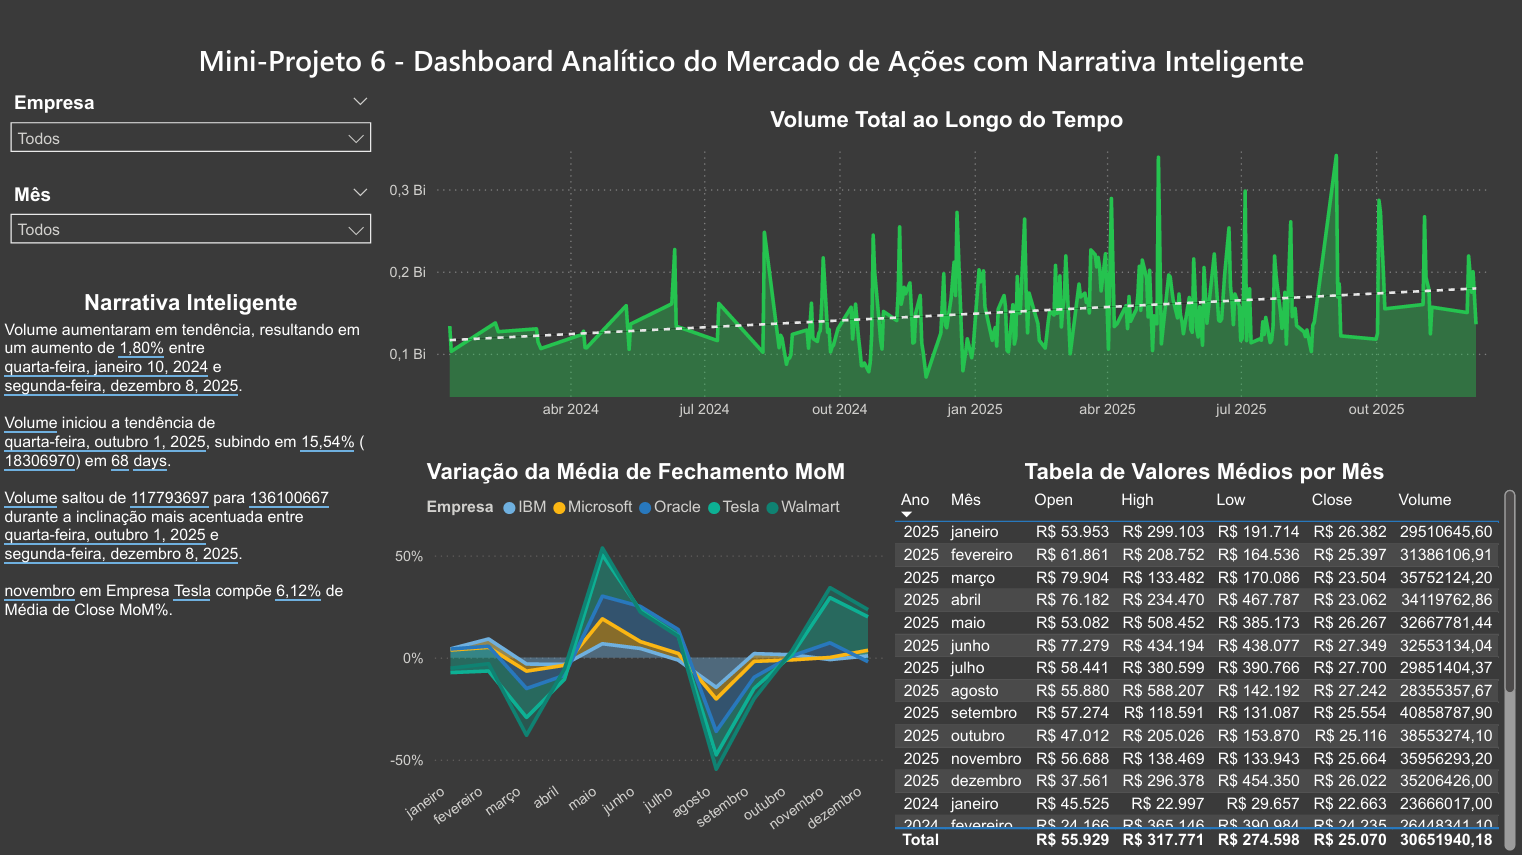

Layout of this report page (visuals, bound fields, positions):
{"tool":"powerbi","page":{"name":"Página 1","canvas":[1280,720],"ordinal":0},"visuals":[{"type":"areaChart","title":"Volume Total ao Longo do Tempo","fields":{"Y":["Sum(IBM.Volume)"],"Category":["IBM.Data.Variation.Hierarquia de datas.Ano","IBM.Data.Variation.Hierarquia de datas.Trimestre","IBM.Data.Variation.Hierarquia de datas.Mês","IBM.Data.Variation.Hierarquia de datas.Dia"]},"box":[323.3,89.5,946.5,270.9],"z":0},{"type":"tableEx","title":"Tabela de Valores Médios por Mês","fields":{"Values":["IBM.Data.Variation.Hierarquia de datas.Ano","IBM.Data.Variation.Hierarquia de datas.Mês","Avg(IBM.Open)","Avg(IBM.High)","Avg(IBM.Low)","Avg(IBM.Close)","Avg(IBM.Volume)"]},"box":[746.5,386,532.6,333.7],"z":1000},{"type":"slicer","fields":{"Values":["IBM.Empresa"]},"box":[0,73.3,323.3,59.3],"z":2000},{"type":"stackedAreaChart","title":"Variação da Média de Fechamento MoM","fields":{"Category":["IBM.Data.Variation.Hierarquia de datas.Mês"],"Series":["IBM.Empresa"],"Y":["IBM.Média de Close MoM%"]},"box":[323.3,386,424.4,333.7],"z":3000},{"type":"slicer","fields":{"Values":["IBM.Data.Variation.Hierarquia de datas.Mês"]},"box":[0,150,323.3,66.3],"z":3002},{"type":"textbox","title":"Narrativa Inteligente","box":[0,244.2,323.3,460.5],"z":3003},{"type":"textbox","box":[162.8,29.1,953.5,44.2],"z":3004}]}

Visuals, with their boxes in screenshot pixels (x1, y1, x2, y2), scaled from the page's 1280x720 canvas onto the 1522x855 screenshot:
"Volume Total ao Longo do Tempo" areaChart: 384,106,1510,428
"Tabela de Valores Médios por Mês" tableEx: 888,458,1521,854
slicer - IBM.Empresa: 0,87,384,157
"Variação da Média de Fechamento MoM" stackedAreaChart: 384,458,889,854
slicer - IBM.Data.Variation.Hierarquia de datas.Mês: 0,178,384,257
"Narrativa Inteligente" textbox: 0,290,384,837
textbox: 194,35,1327,87
